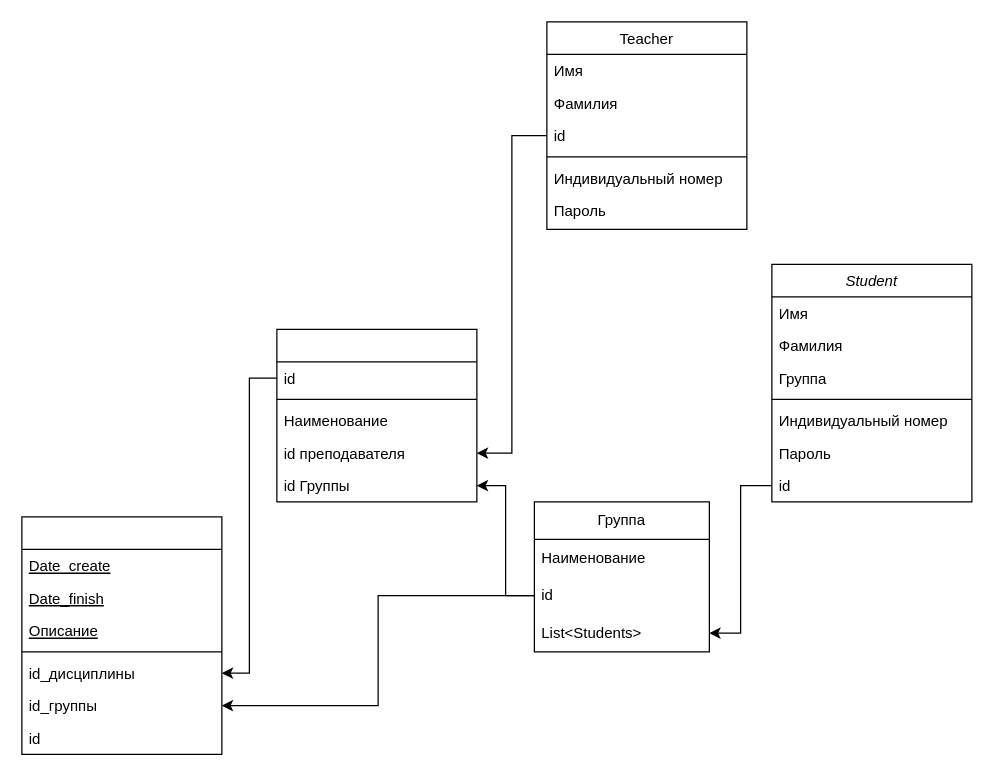
The diagram is 994 pixels wide and 780 high, and some of its shapes have lost their labels. Each missing label, with the box of its shape:
Дисциплина: (276, 328, 477, 502)
Задачи: (21, 516, 222, 754)
